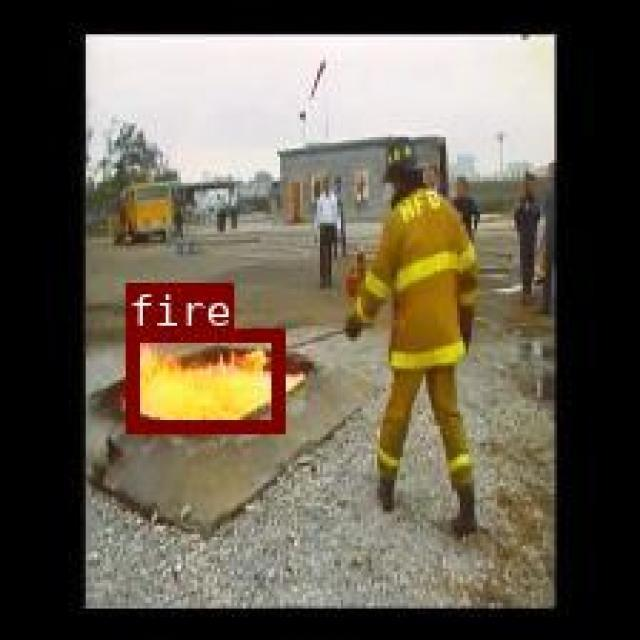fire: (124, 326, 282, 429)
